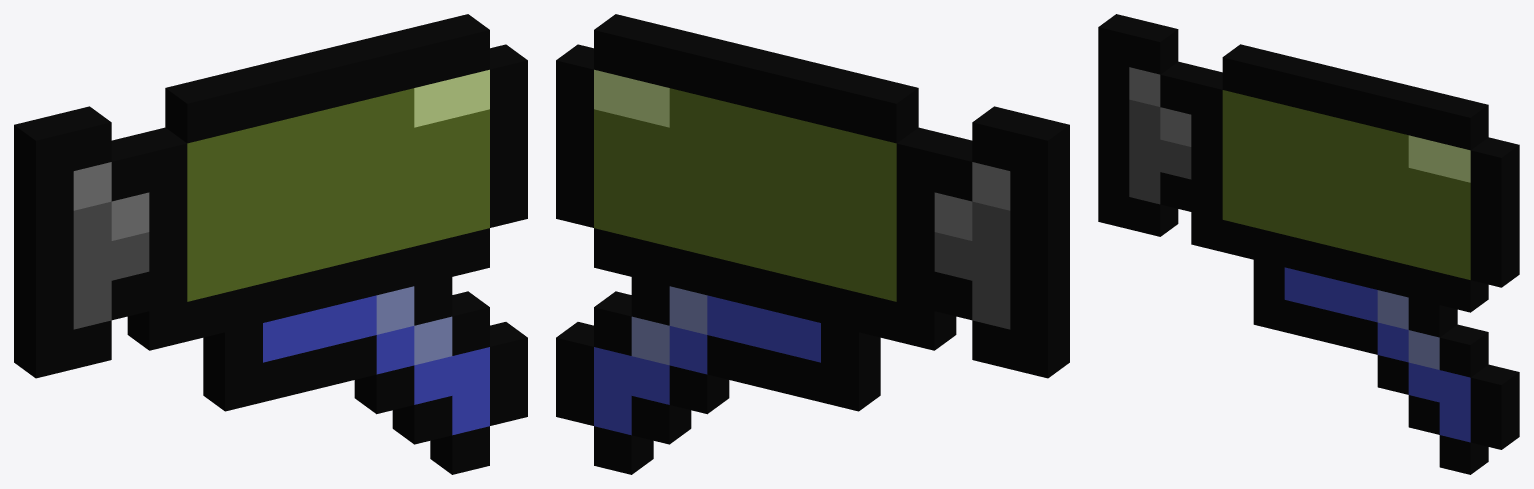
The model's file is Green Paintball Gun.glb.
3 renders of one model, left to right at view 1: azimuth 30°, elevation 25°; view 2: azimuth 150°, elevation 25°; view 3: azimuth 330°, elevation 25°, orthographic. The views are drawn at different scales.
Parts seen in each view (by area): view 1: generated(Clone); view 2: generated(Clone); view 3: generated(Clone).
Part boxes in pixels (bbox=[...]): generated(Clone): bbox=[14, 14, 527, 474]; generated(Clone): bbox=[556, 14, 1069, 474]; generated(Clone): bbox=[1098, 14, 1519, 474].
Size of the model in its own units: 13 by 11 by 1.
Materials: 1 (1 with a texture image).
